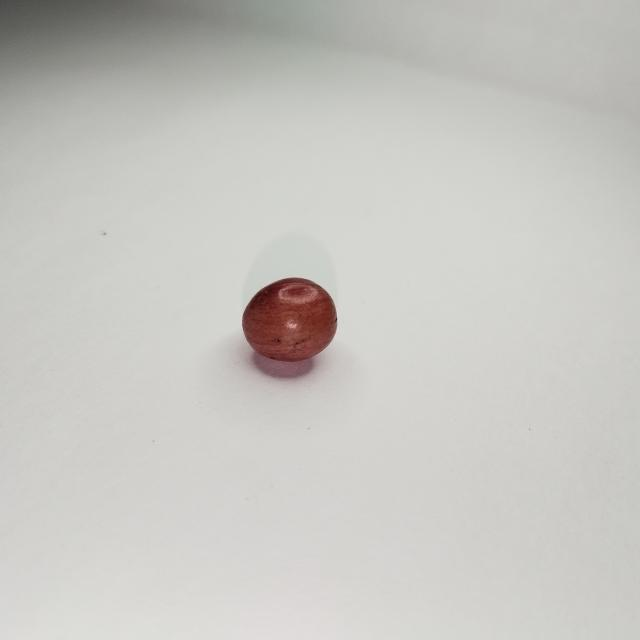Sano: (244, 278, 336, 363)
